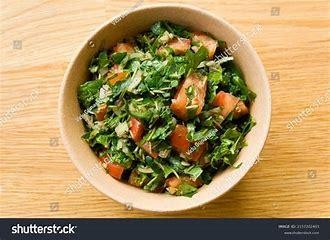Gotukola Mallum: (84, 26, 242, 192)
